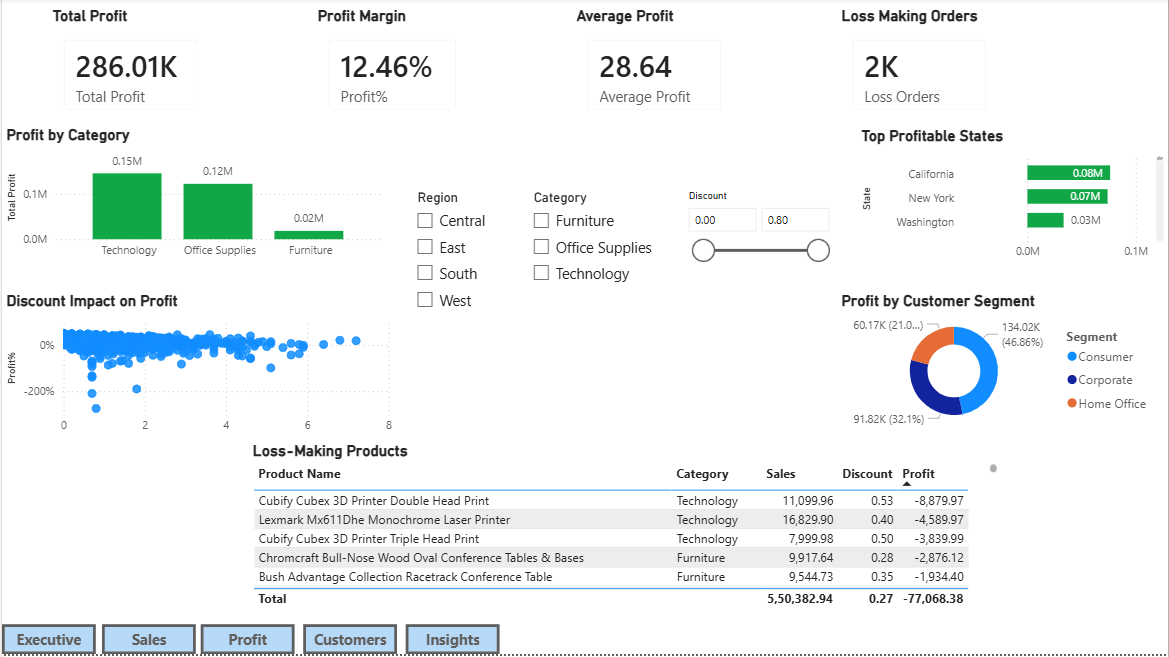

Layout of this report page (visuals, bound fields, positions):
{"tool":"powerbi","page":{"name":"Profit Analysis","canvas":[1280,720],"ordinal":2},"visuals":[{"type":"cardVisual","title":"Total Profit","fields":{"Data":["Orders.Total Profit"]},"box":[50.8,9.6,181.1,130.4],"z":0},{"type":"cardVisual","title":"Profit Margin","fields":{"Data":["Orders.Profit%"]},"box":[341.7,9.6,174.3,130.4],"z":1000},{"type":"cardVisual","title":"Average Profit","fields":{"Data":["Orders.Average Profit"]},"box":[625.7,9.6,181.1,130.4],"z":2000},{"type":"cardVisual","title":"Loss Making Orders","fields":{"Data":["Orders.Loss Orders"]},"box":[916.6,9.6,181.1,130.4],"z":3000},{"type":"clusteredColumnChart","title":"Profit by Category","fields":{"Category":["Orders.Category"],"Y":["Orders.Total Profit"]},"box":[0,140,424,155.1],"z":4000},{"type":"barChart","title":" Top Profitable States ","fields":{"Category":["Orders.State"],"Y":["Orders.Total Profit"]},"box":[938.6,141.3,341.7,155.1],"z":5000},{"type":"scatterChart","title":"Discount Impact on  Profit","fields":{"X":["Sum(Orders.Discount)"],"Y":["Orders.Profit%"],"Category":["Orders.Product Name"]},"box":[0,322.5,433.6,164.7],"z":6000},{"type":"tableEx","title":"Loss-Making Products","fields":{"Values":["Orders.Product Name","Orders.Category","Sum(Orders.Sales)","Avg(Orders.Discount)","Sum(Orders.Profit)"]},"box":[270.3,487.1,827.4,186.6],"z":7000},{"type":"donutChart","title":"    Profit by Customer Segment","fields":{"Category":["Orders.Segment"],"Y":["Orders.Total Profit"]},"box":[916.6,322.5,354,155.1],"z":8000},{"type":"slicer","fields":{"Values":["Orders.Region"]},"box":[443.2,205.8,107,153.7],"z":9000},{"type":"slicer","fields":{"Values":["Orders.Category"]},"box":[570.2,205.8,150.9,138.6],"z":10000},{"type":"slicer","fields":{"Values":["Orders.Discount"]},"box":[741,205.8,175.6,127.6],"z":11000},{"type":"actionButton","box":[0,687.5,102.9,32.9],"z":12000},{"type":"actionButton","box":[109.8,687.5,102.9,32.9],"z":13000},{"type":"actionButton","box":[218.2,687.5,102.9,32.9],"z":14000},{"type":"actionButton","box":[330.7,687.5,102.9,32.9],"z":15000},{"type":"actionButton","box":[443.2,687.5,102.9,32.9],"z":16000}]}

Visuals, with their boxes in screenshot pixels (x1, y1, x2, y2), scaled from the page's 1280x720 canvas onto the 1169x657 screenshot:
"Total Profit" cardVisual: [left=46, top=9, right=212, bottom=128]
"Profit Margin" cardVisual: [left=312, top=9, right=471, bottom=128]
"Average Profit" cardVisual: [left=571, top=9, right=737, bottom=128]
"Loss Making Orders" cardVisual: [left=837, top=9, right=1003, bottom=128]
"Profit by Category" clusteredColumnChart: [left=0, top=128, right=387, bottom=269]
" Top Profitable States " barChart: [left=857, top=129, right=1168, bottom=270]
"Discount Impact on  Profit" scatterChart: [left=0, top=294, right=396, bottom=445]
"Loss-Making Products" tableEx: [left=247, top=444, right=1003, bottom=615]
"    Profit by Customer Segment" donutChart: [left=837, top=294, right=1160, bottom=436]
slicer - Orders.Region: [left=405, top=188, right=502, bottom=328]
slicer - Orders.Category: [left=521, top=188, right=659, bottom=314]
slicer - Orders.Discount: [left=677, top=188, right=837, bottom=304]
actionButton: [left=0, top=627, right=94, bottom=656]
actionButton: [left=100, top=627, right=194, bottom=656]
actionButton: [left=199, top=627, right=293, bottom=656]
actionButton: [left=302, top=627, right=396, bottom=656]
actionButton: [left=405, top=627, right=499, bottom=656]
